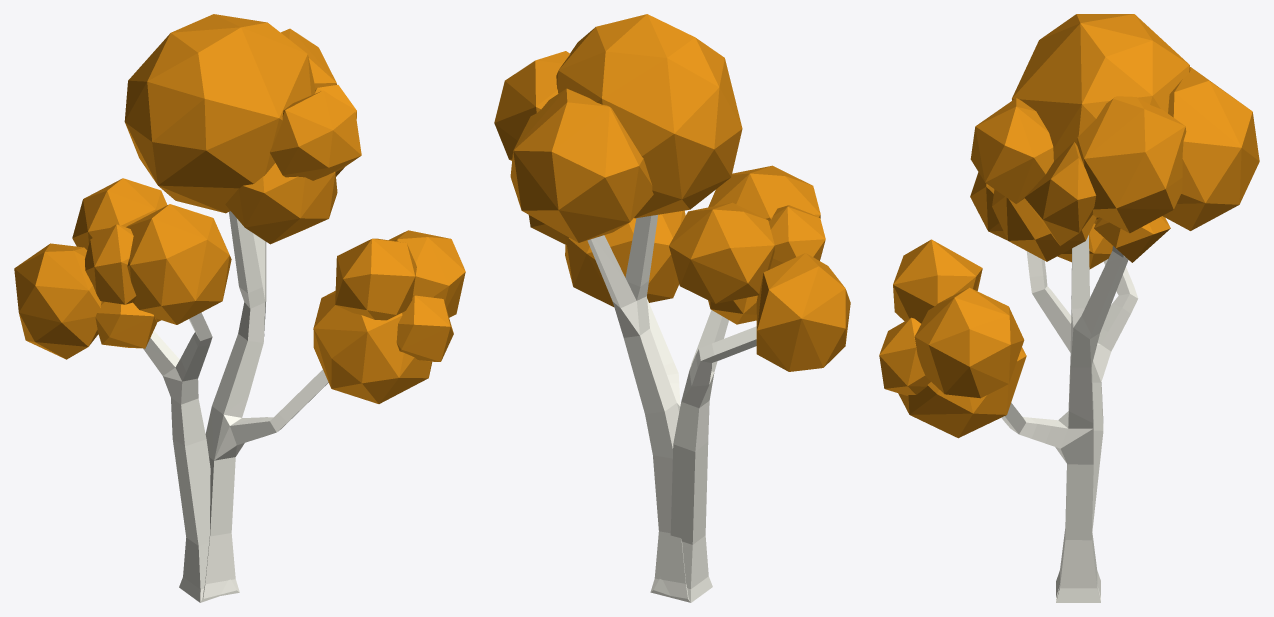
The model's file is syksy_koivu2.fbx.
3 renders of one model, left to right at view 1: azimuth 30°, elevation 25°; view 2: azimuth 150°, elevation 25°; view 3: azimuth 270°, elevation 25°, orthographic. The views are drawn at different scales.
Parts seen in each view (by area): view 1: Icosphere, Cube; view 2: Icosphere, Cube; view 3: Icosphere, Cube.
Part boxes in pixels (x1=…): Icosphere: x1=14, y1=14, x2=465, y2=403; Cube: x1=143, y1=211, x2=328, y2=602; Icosphere: x1=494, y1=14, x2=850, y2=371; Cube: x1=587, y1=215, x2=756, y2=602; Icosphere: x1=879, y1=14, x2=1259, y2=438; Cube: x1=1001, y1=235, x2=1138, y2=602.
Size of the model in its own units: 1612 by 2261 by 1328.
